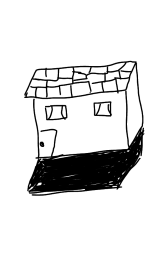door: (37, 128, 67, 161)
open_window: (42, 101, 71, 122), (91, 98, 117, 118)
roof: (18, 50, 146, 102)
shadow: (25, 147, 144, 198)
wall: (32, 86, 134, 160)
